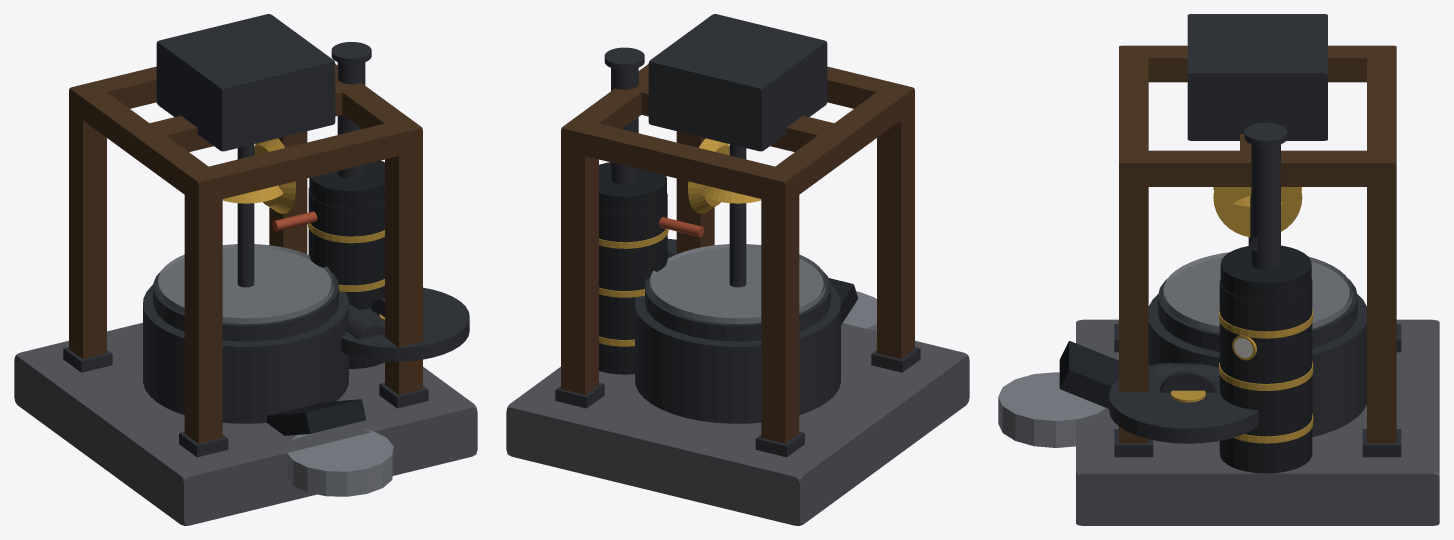
Rendered from rock_grinder.glb.
3 renders of one model, left to right at view 1: azimuth 30°, elevation 25°; view 2: azimuth 150°, elevation 25°; view 3: azimuth 270°, elevation 25°, orthographic. The views are drawn at different scales.
Parts seen in each view (by area): view 1: Foundation_Stone, Hopper_Feed, Crusher_Housing, Frame_Post_-0.75_-0.75, Frame_Post_-0.75_0.75, Frame_Post_0.75_-0.75, Millstone_Upper, Frame_Beam_X_-0.75, Steam_Boiler, Crushed_Gravel_Pile, Frame_Beam_Y_-0.75, Drive_Flywheel_Rim (+17 smaller); view 2: Foundation_Stone, Hopper_Feed, Crusher_Housing, Frame_Post_-0.75_0.75, Frame_Post_0.75_0.75, Frame_Post_-0.75_-0.75, Millstone_Upper, Frame_Beam_X_0.75, Steam_Boiler, Frame_Beam_Y_-0.75, Millstone_Upper_Rim, Steam_Boiler_Dome (+14 smaller); view 3: Foundation_Stone, Hopper_Feed, Steam_Boiler, Frame_Post_0.75_0.75, Frame_Beam_Y_0.75, Frame_Post_0.75_-0.75, Crusher_Housing, Drive_Flywheel_Rim, Millstone_Upper, Crushed_Gravel_Pile, Steam_Boiler_Dome, Exhaust_Pipe (+14 smaller).
Boxes of the visible parts, x1,y1,x2,y2 form: Foundation_Stone: (14, 322, 477, 525); Hopper_Feed: (156, 14, 335, 151); Crusher_Housing: (143, 285, 348, 423); Frame_Post_-0.75_-0.75: (184, 167, 222, 443); Frame_Post_-0.75_0.75: (69, 82, 106, 358); Frame_Post_0.75_-0.75: (385, 118, 422, 394); Millstone_Upper: (157, 244, 334, 323); Frame_Beam_X_-0.75: (199, 123, 410, 201); Steam_Boiler: (308, 187, 384, 368); Crushed_Gravel_Pile: (287, 427, 393, 496); Frame_Beam_Y_-0.75: (82, 91, 208, 198); Drive_Flywheel_Rim: (341, 287, 469, 361); Foundation_Stone: (506, 323, 969, 525); Hopper_Feed: (648, 14, 827, 151); Crusher_Housing: (635, 285, 840, 423); Frame_Post_-0.75_0.75: (761, 167, 799, 443); Frame_Post_0.75_0.75: (561, 118, 598, 394); Frame_Post_-0.75_-0.75: (877, 82, 914, 358); Millstone_Upper: (649, 244, 826, 323); Frame_Beam_X_0.75: (573, 121, 786, 201); Steam_Boiler: (599, 193, 667, 374); Frame_Beam_Y_-0.75: (769, 91, 907, 198); Millstone_Upper_Rim: (645, 269, 830, 341); Steam_Boiler_Dome: (599, 162, 666, 213); Foundation_Stone: (1076, 319, 1439, 525); Hopper_Feed: (1187, 14, 1327, 140); Steam_Boiler: (1219, 279, 1312, 473); Frame_Post_0.75_0.75: (1367, 150, 1396, 443); Frame_Beam_Y_0.75: (1134, 150, 1381, 186); Frame_Post_0.75_-0.75: (1119, 150, 1148, 443); Crusher_Housing: (1148, 294, 1366, 436); Drive_Flywheel_Rim: (1109, 362, 1258, 443); Millstone_Upper: (1163, 252, 1352, 332); Crushed_Gravel_Pile: (998, 372, 1105, 447); Steam_Boiler_Dome: (1220, 245, 1311, 300); Exhaust_Pipe: (1251, 144, 1280, 269).
Size of the model in its own units: 2.46 by 2.71 by 2.67.
